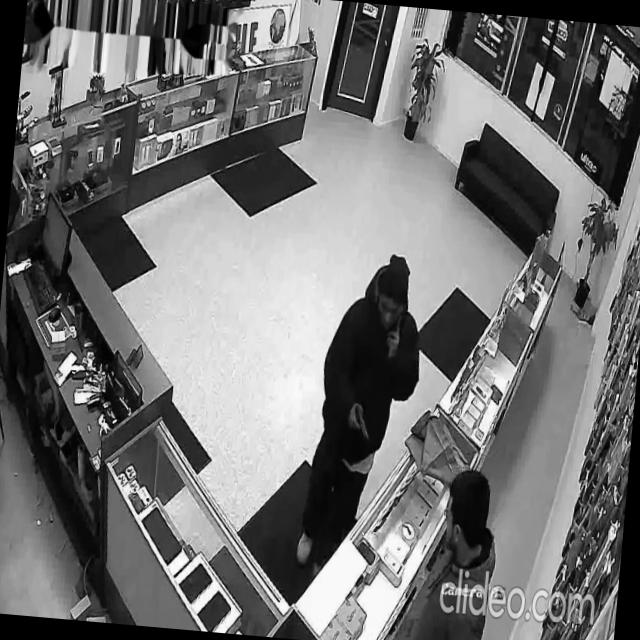gun: (350, 403, 372, 442)
person: (405, 462, 503, 640)
person with a gun: (296, 246, 431, 575)
